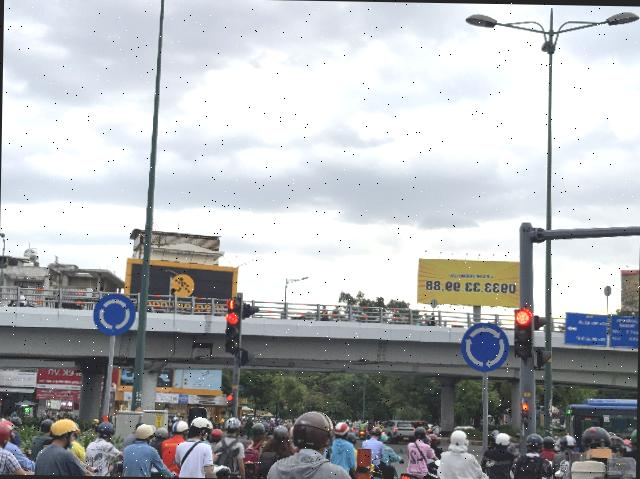noi-giao-nhau-chay-theo-vong-xuyen: (460, 322, 510, 372), (92, 292, 136, 336)
